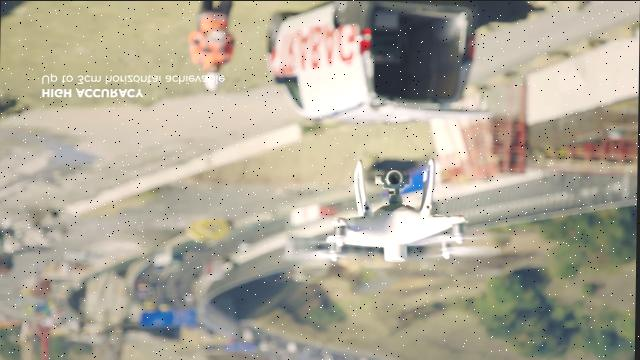drone: (280, 158, 503, 264)
